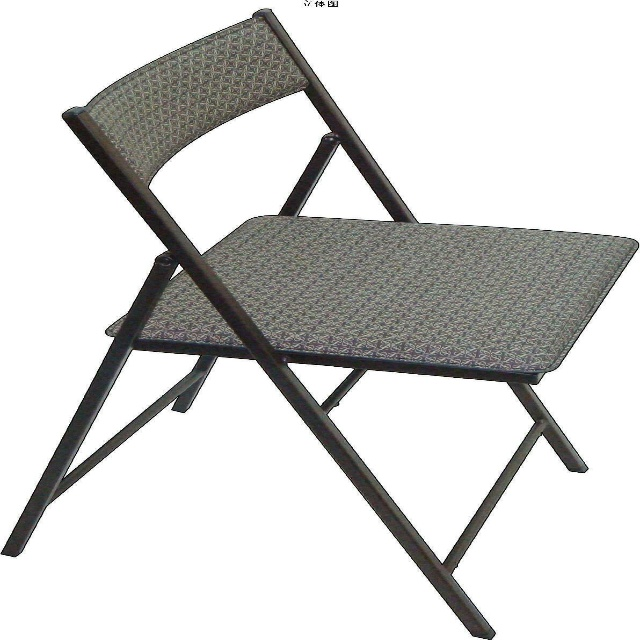obstacle: (0, 0, 638, 537), (2, 359, 475, 640), (455, 260, 638, 640)
